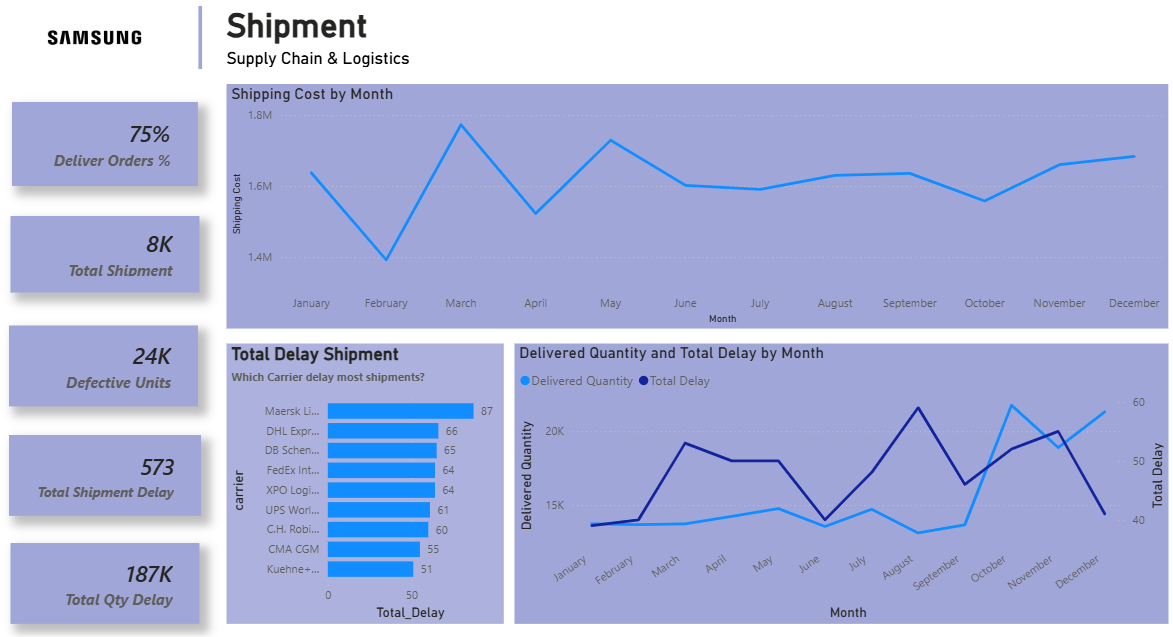

The dashboard page shown, as its layout file describes it:
{"tool":"powerbi","page":{"name":"Shipment","canvas":[1280,720],"ordinal":4},"visuals":[{"type":"shape","title":"Shipment","box":[251,16.2,208.9,89.1],"z":0},{"type":"shape","box":[212.1,16.2,21,68],"z":1000},{"type":"image","box":[16.2,0,184.6,100.4],"z":2000},{"type":"cardVisual","fields":{"Data":["New_Measures.Delivered_Orders_%"]},"box":[19.4,119.8,200.8,90.7],"z":3000},{"type":"cardVisual","fields":{"Data":["New_Measures.Total_Shipment"]},"box":[17.8,242.9,204,82.6],"z":4000},{"type":"barChart","title":"Total Delay Shipment","fields":{"Category":["fact_shipment.carrier"],"Y":["New_Measures.Total_Delay"]},"box":[251,380.5,299.6,302.8],"z":5000},{"type":"cardVisual","fields":{"Data":["New_Measures.Defective_Units"]},"box":[16.2,361.1,204,87.4],"z":6000},{"type":"cardVisual","fields":{"Data":["New_Measures.Total_Delay"]},"box":[16.2,479.3,207.3,87.4],"z":7000},{"type":"cardVisual","fields":{"Data":["New_Measures.Total_Qty_Delay"]},"box":[17.8,595.9,204,87.4],"z":8000},{"type":"lineChart","fields":{"Category":["dim_date.month_name"],"Y2":["New_Measures.Total_Delay"],"Y":["New_Measures.Delivered_Quantity"]},"box":[561.9,380.5,706,302.8],"z":9000},{"type":"lineChart","fields":{"Y":["Sum(fact_shipment.shipping_cost)"],"Category":["dim_date.month_name"]},"box":[251,100.4,1016.9,263.9],"z":10000}]}

Visuals, with their boxes on the page's 1280x720 design canvas (x1, y1, x2, y2). These are canvas units, not pixel positions in the 1173x637 screenshot, which may show the page scaled, cropped or inside an application window:
"Shipment" shape: BBox(251, 16, 460, 105)
shape: BBox(212, 16, 233, 84)
image: BBox(16, 0, 201, 100)
cardVisual - New_Measures.Delivered_Orders_%: BBox(19, 120, 220, 210)
cardVisual - New_Measures.Total_Shipment: BBox(18, 243, 222, 326)
"Total Delay Shipment" barChart: BBox(251, 380, 551, 683)
cardVisual - New_Measures.Defective_Units: BBox(16, 361, 220, 448)
cardVisual - New_Measures.Total_Delay: BBox(16, 479, 224, 567)
cardVisual - New_Measures.Total_Qty_Delay: BBox(18, 596, 222, 683)
lineChart - dim_date.month_name x New_Measures.Total_Delay: BBox(562, 380, 1268, 683)
lineChart - Sum(fact_shipment.shipping_cost) x dim_date.month_name: BBox(251, 100, 1268, 364)
